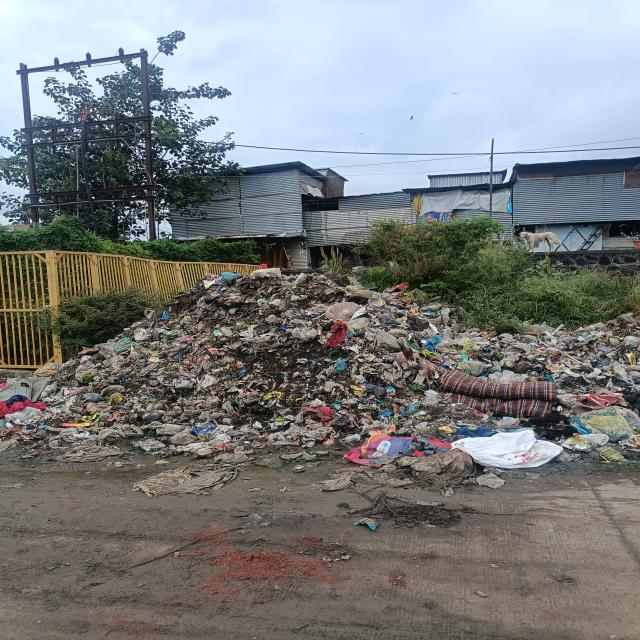garbage: (208, 270, 640, 468), (0, 279, 199, 460)
